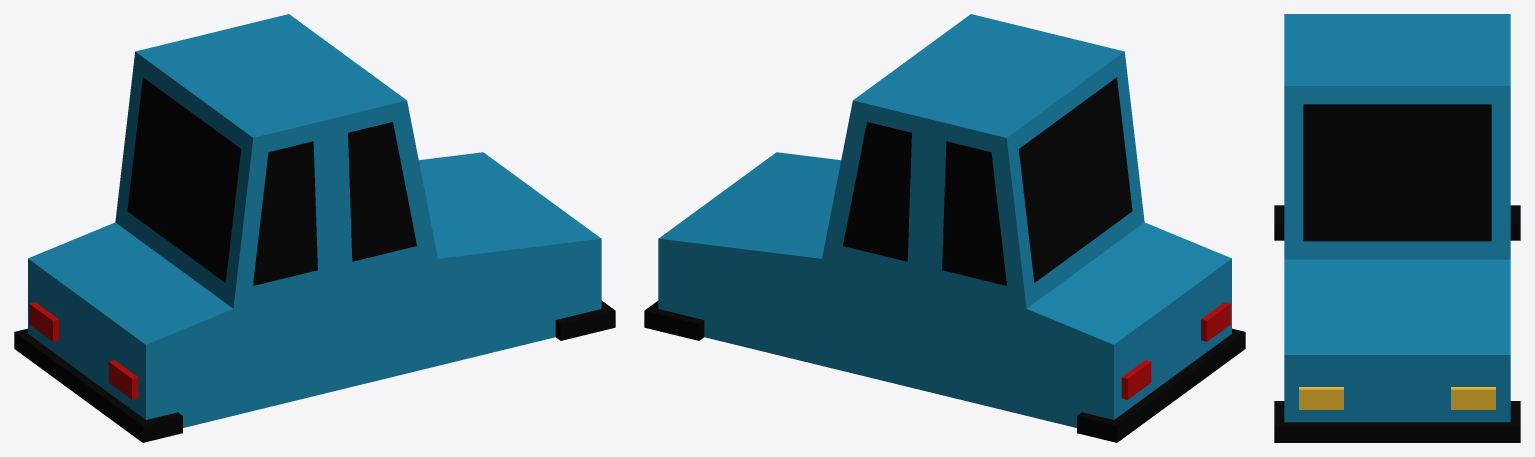
Rendered from CityCar_Sedan_07.fbx.
3 views of the same model, side by side, from view 1: azimuth 30°, elevation 25°; view 2: azimuth 150°, elevation 25°; view 3: azimuth 270°, elevation 25° (orthographic). The views are drawn at different scales.
Parts seen in each view (by area): view 1: CityCar_Sedan_07; view 2: CityCar_Sedan_07; view 3: CityCar_Sedan_07.
Part boxes in pixels (x1,y1,x2,y2): CityCar_Sedan_07: [14, 14, 615, 442]; CityCar_Sedan_07: [644, 14, 1245, 442]; CityCar_Sedan_07: [1274, 14, 1520, 442].
Size of the model in its own units: 0.4902 by 0.2706 by 0.2307.
